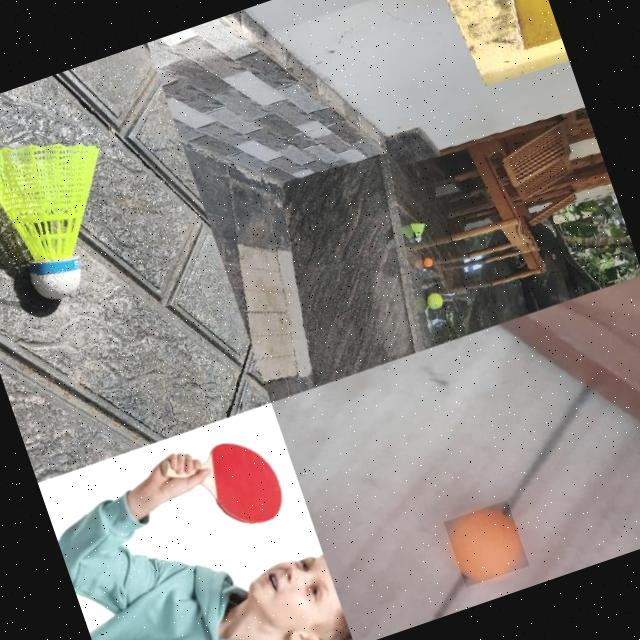ping-pong-ball: (442, 498, 529, 586), (422, 256, 432, 266)
